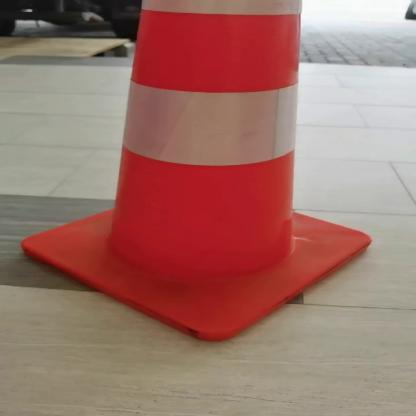cone: (3, 0, 396, 340)
